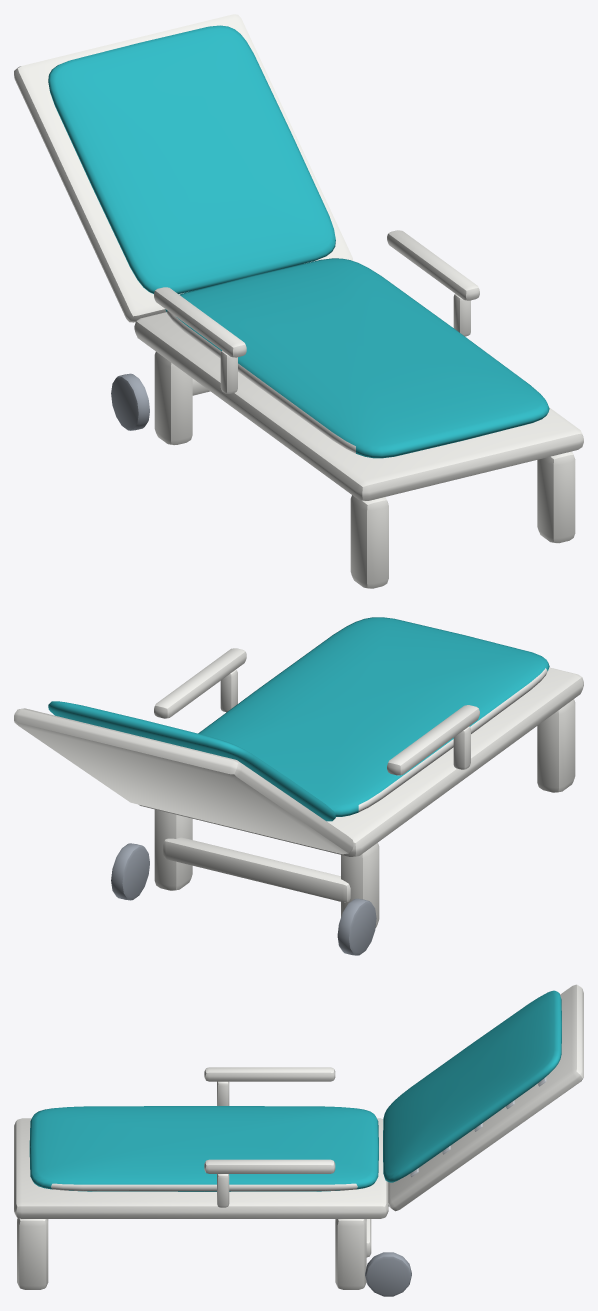
File: espreguicadeira_reclinavel.glb
3 renders of one model, top to bottom at view 1: azimuth 30°, elevation 25°; view 2: azimuth 150°, elevation 25°; view 3: azimuth 270°, elevation 25°, orthographic. The views are drawn at different scales.
Parts seen in each view (by area): view 1: espreguicadeira_reclinavel; view 2: espreguicadeira_reclinavel; view 3: espreguicadeira_reclinavel.
Part boxes in pixels (x1,y1,x2,y2): espreguicadeira_reclinavel: (14, 14, 583, 588); espreguicadeira_reclinavel: (14, 617, 583, 955); espreguicadeira_reclinavel: (14, 984, 583, 1296).
Bounding box in the file's own units: 0.75 × 0.8076 × 1.83.
1 material, 1 textured.
